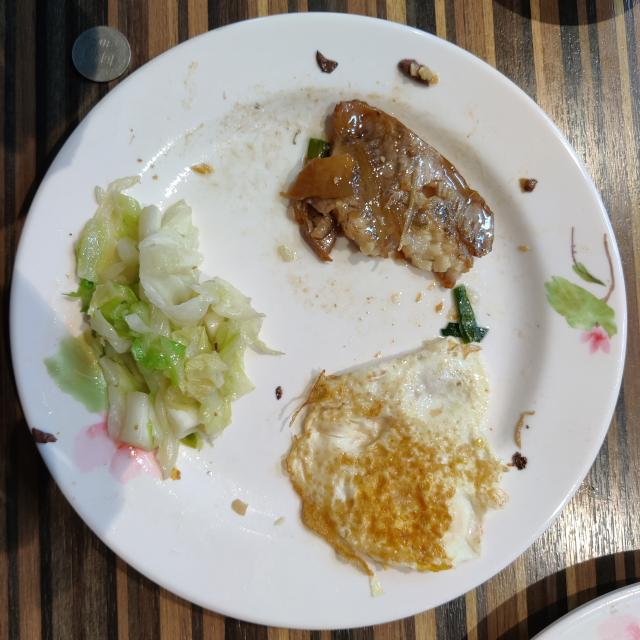Kabayaki sea bream fillet: (285, 100, 494, 288)
cabbage: (71, 178, 279, 479)
coin: (72, 26, 131, 81)
